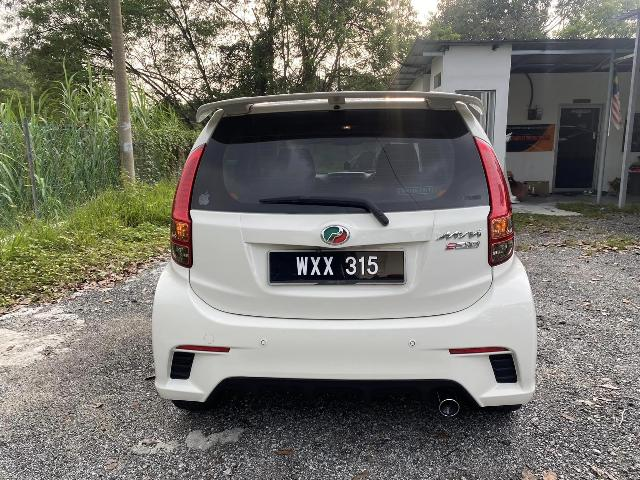License_Plate: (275, 253, 390, 285)
car: (168, 100, 540, 440)
